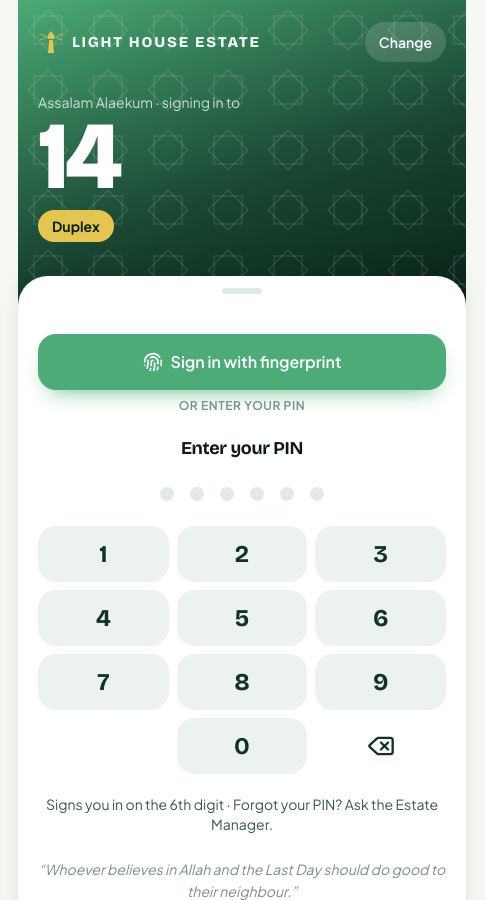
Test: Fingerprint sign-in (residents) › a cancelled fingerprint shows a friendly message and keeps the PIN pad
Step 1. Click the button "Sign in with fingerprint" → click(242, 362), box [38, 334, 446, 390]
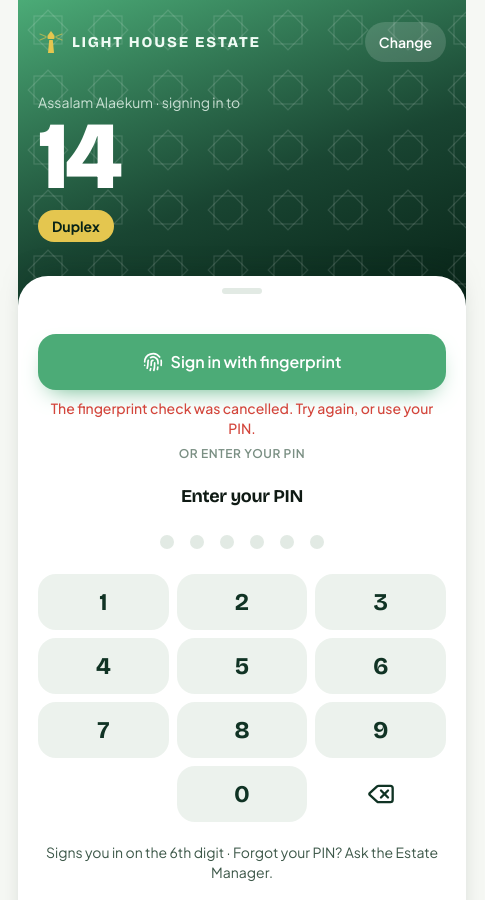
Expected: the heading "Enter your PIN" is shown, [181, 485, 303, 507]
Now the message shows "cancelled", box [51, 399, 433, 437]
